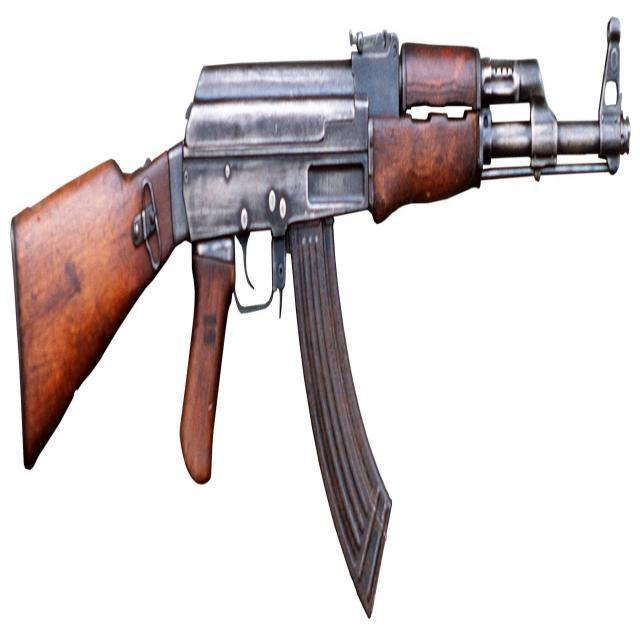ak: (7, 12, 640, 619)
